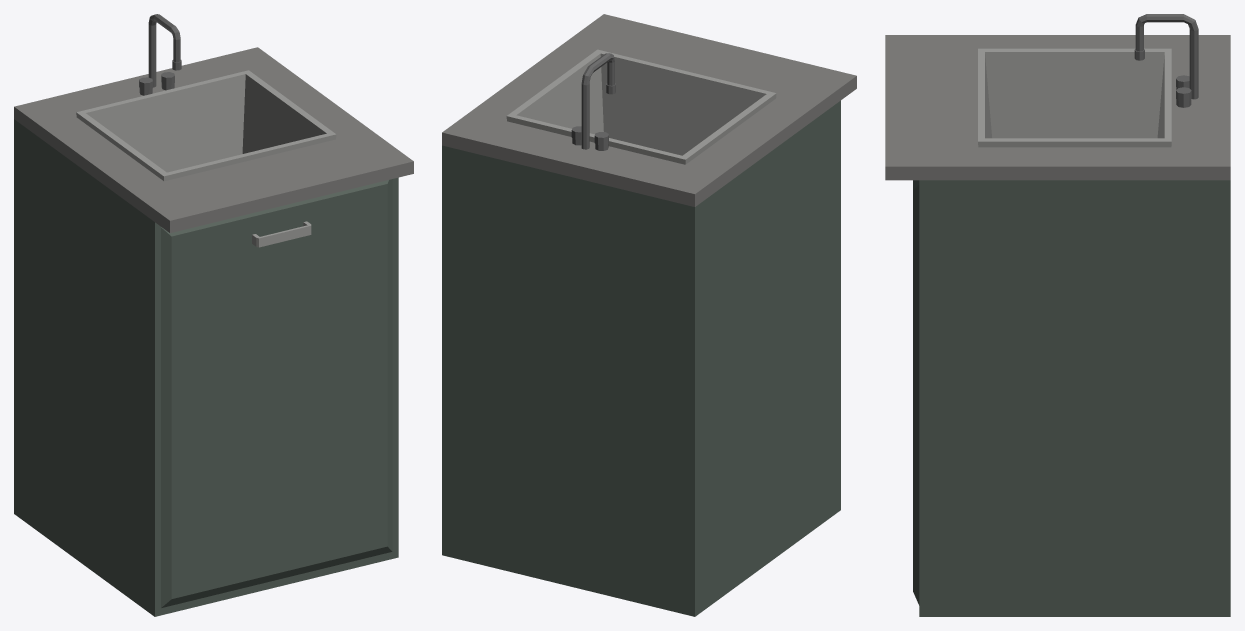
The model's file is Kitchen_Sink.glb.
The picture shows the model from 3 angles, left to right: view 1: azimuth 30°, elevation 25°; view 2: azimuth 150°, elevation 25°; view 3: azimuth 270°, elevation 25°; orthographic projection. The views are drawn at different scales.
Visible parts, largest first — view 1: Kitchen_Sink; view 2: Kitchen_Sink; view 3: Kitchen_Sink.
Boxes of the visible parts, x1,y1,x2,y2 form: Kitchen_Sink: (14,14,413,616); Kitchen_Sink: (442,14,856,616); Kitchen_Sink: (885,14,1230,616).
Bounding box in the file's own units: 0.4943 × 0.941 × 0.5479.
4 materials, 4 textured.
